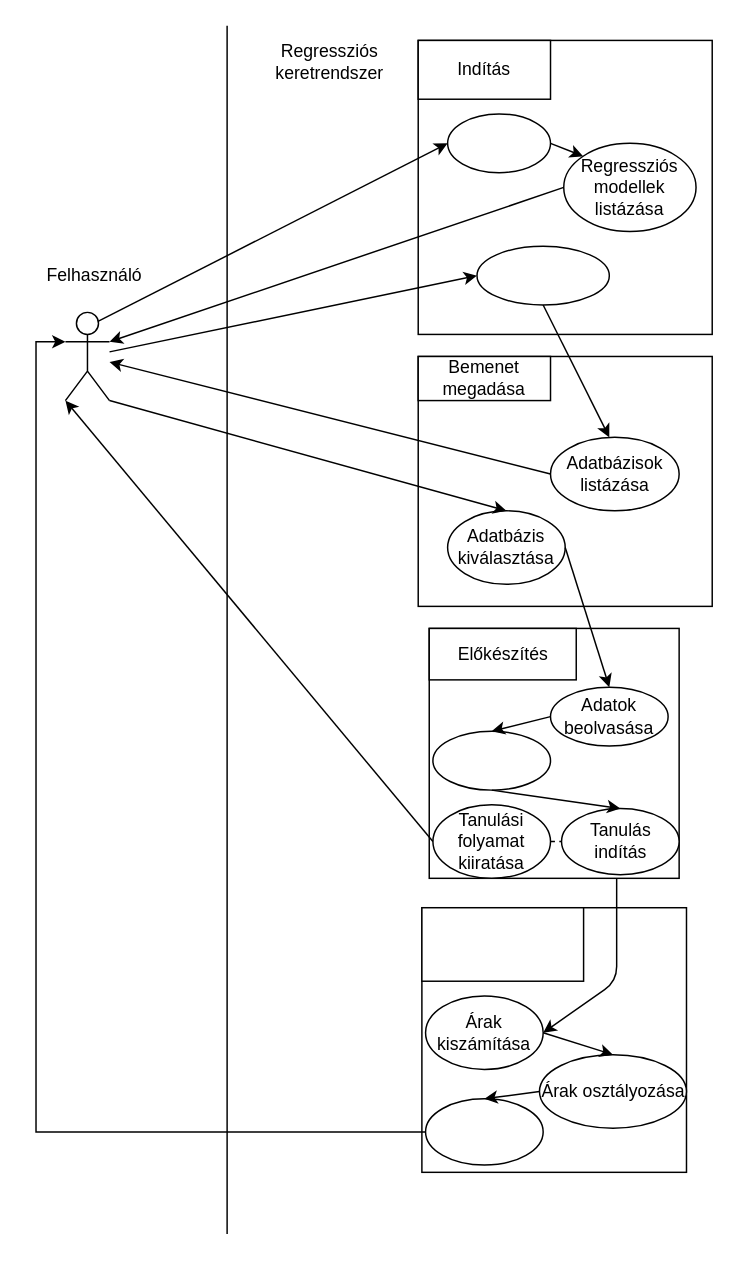
This 738x1261 diagram has some shape labels left out. Each missing label, with the centre of its shape:
Adatok feldolgozása: (491,760)
Eredmény kiiratása: (483,1131)
Modell választás: (542,275)
Program futtatása: (498,142)
Szálláshely árainak meghatározása: (502,943)
